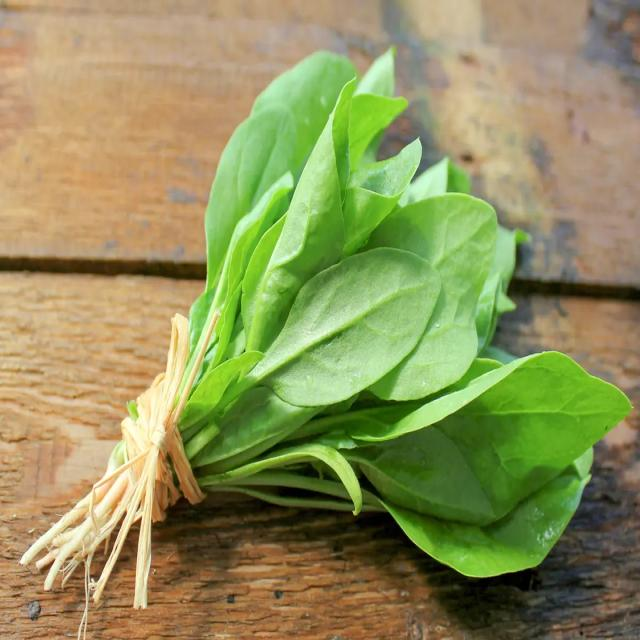spinach: (18, 34, 638, 609)
